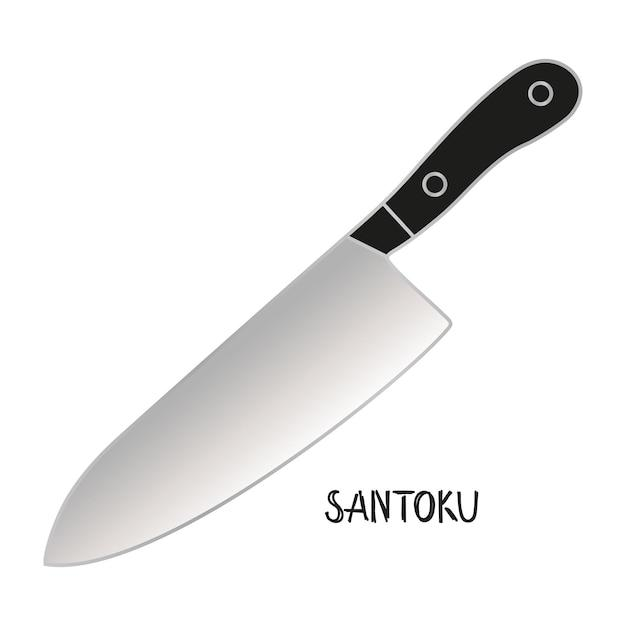Knife: (42, 57, 582, 567)
